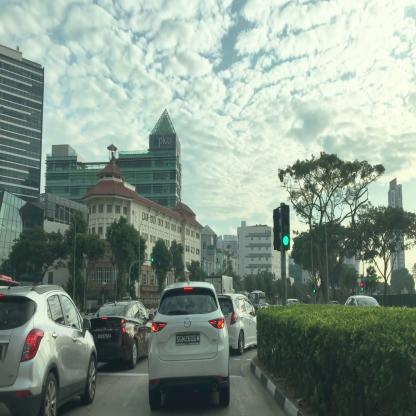green_traffic_light: (282, 206, 288, 247)
